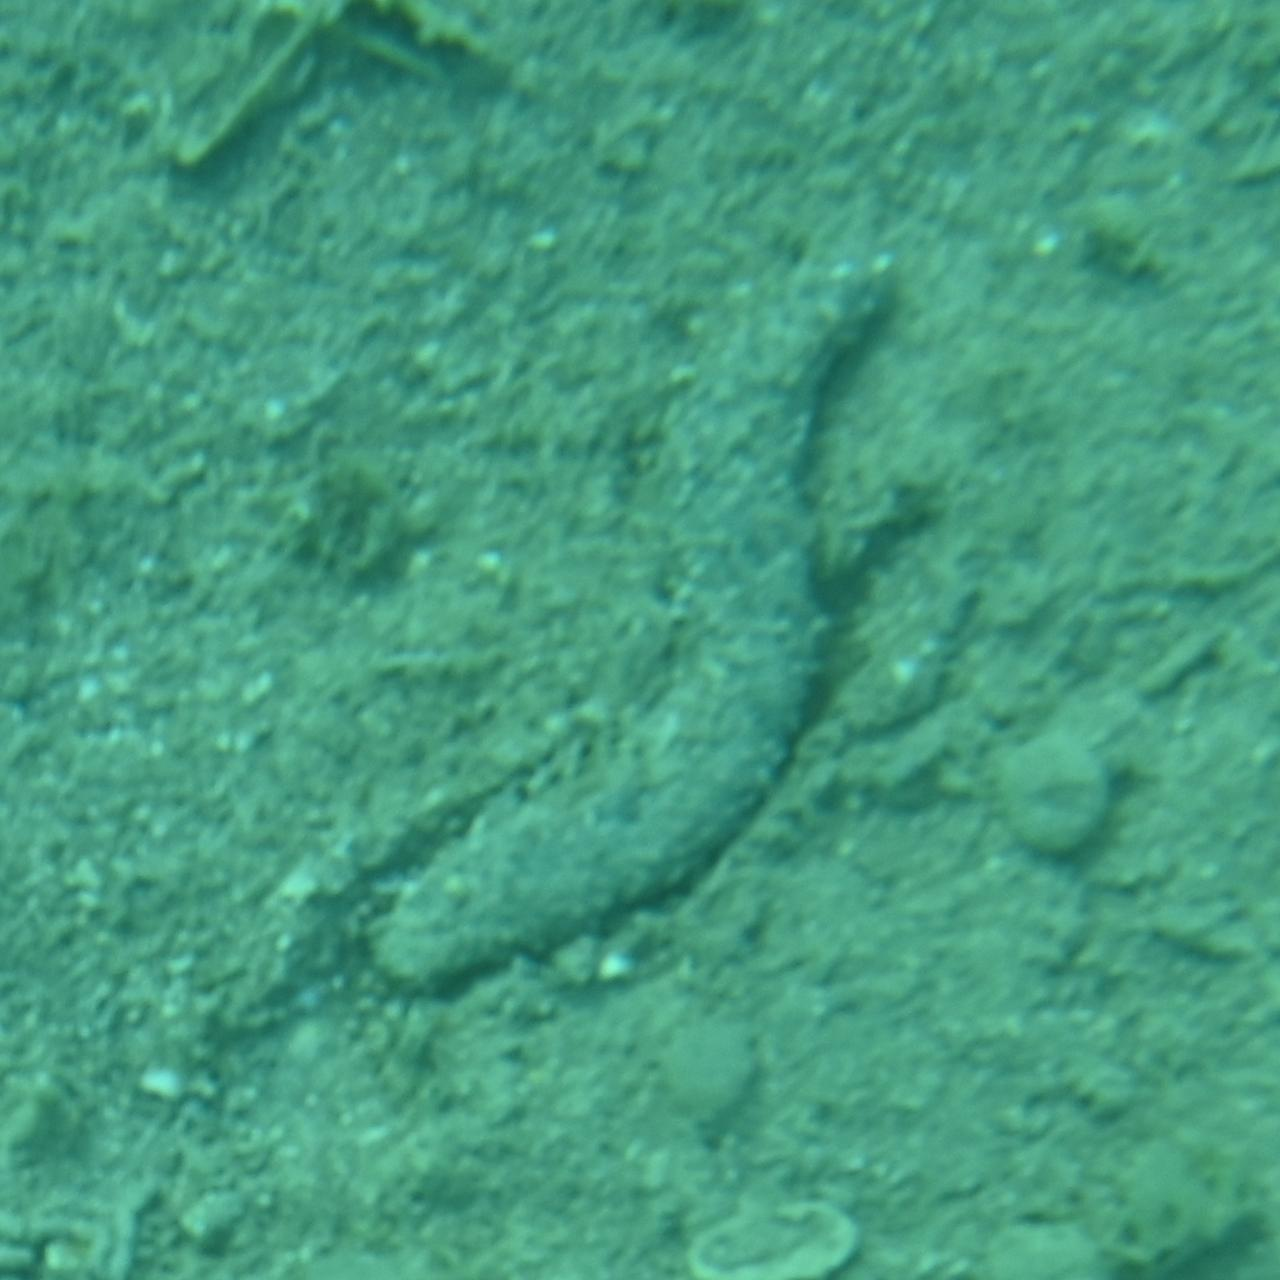Holothuria tubulosa: (359, 242, 921, 1038)
